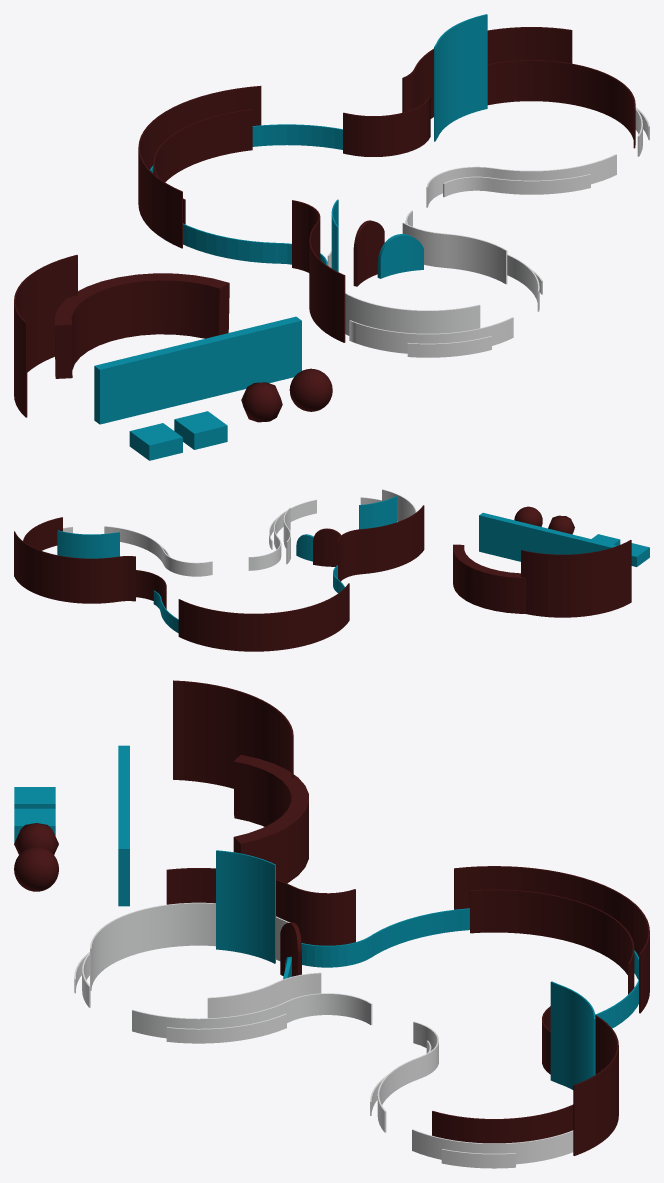
File: meeting4.fbx
The picture shows the model from 3 angles, top to bottom: view 1: azimuth 30°, elevation 25°; view 2: azimuth 150°, elevation 25°; view 3: azimuth 270°, elevation 25°; orthographic projection. The views are drawn at different scales.
Parts seen in each view (by area): view 1: Group13, Group7, Group6, Box003, Box004, Group14, Group15, Group9, Group16, Group5, Difference, Difference1 (+6 smaller); view 2: Group13, Group7, Box003, Box004, Group6, Group16, Group4, Difference1, Group14, Sphere002, Difference, Sphere001 (+1 smaller); view 3: Group7, Group13, Group6, Group15, Box004, Group14, Group4, Group5, Group8, Group16, Box003, Sphere002 (+4 smaller).
Boxes of the visible parts, x1=… form: Group13: x1=138, y1=27, x2=572, y2=342; Group7: x1=14, y1=14, x2=507, y2=417; Group6: x1=327, y1=60, x2=635, y2=335; Box003: x1=94, y1=316, x2=301, y2=424; Box004: x1=54, y1=273, x2=229, y2=378; Group14: x1=150, y1=124, x2=342, y2=265; Group15: x1=153, y1=109, x2=252, y2=224; Group9: x1=349, y1=317, x2=513, y2=353; Group16: x1=426, y1=154, x2=616, y2=207; Group5: x1=443, y1=107, x2=649, y2=294; Difference: x1=377, y1=234, x2=423, y2=278; Difference1: x1=353, y1=220, x2=384, y2=286; Group13: x1=14, y1=505, x2=424, y2=651; Group7: x1=57, y1=496, x2=631, y2=617; Box003: x1=479, y1=512, x2=616, y2=561; Box004: x1=453, y1=544, x2=526, y2=613; Group6: x1=23, y1=489, x2=416, y2=608; Group16: x1=104, y1=526, x2=212, y2=576; Group4: x1=248, y1=499, x2=316, y2=570; Difference1: x1=313, y1=528, x2=340, y2=566; Group14: x1=153, y1=565, x2=344, y2=633; Sphere002: x1=514, y1=506, x2=542, y2=526; Difference: x1=296, y1=534, x2=313, y2=561; Sphere001: x1=548, y1=515, x2=574, y2=534; Group7: x1=173, y1=680, x2=595, y2=1089; Group13: x1=166, y1=866, x2=649, y2=1155; Group6: x1=90, y1=902, x2=602, y2=1143; Group15: x1=470, y1=889, x2=634, y2=994; Box004: x1=233, y1=755, x2=308, y2=883; Group14: x1=301, y1=908, x2=638, y2=1028; Group4: x1=132, y1=993, x2=372, y2=1038; Group5: x1=166, y1=1013, x2=515, y2=1168; Group8: x1=412, y1=1129, x2=573, y2=1164; Group16: x1=377, y1=1021, x2=438, y2=1132; Box003: x1=118, y1=745, x2=129, y2=906; Sphere002: x1=14, y1=846, x2=58, y2=891.
Bounding box in the file's own units: 857 × 102 × 592.
